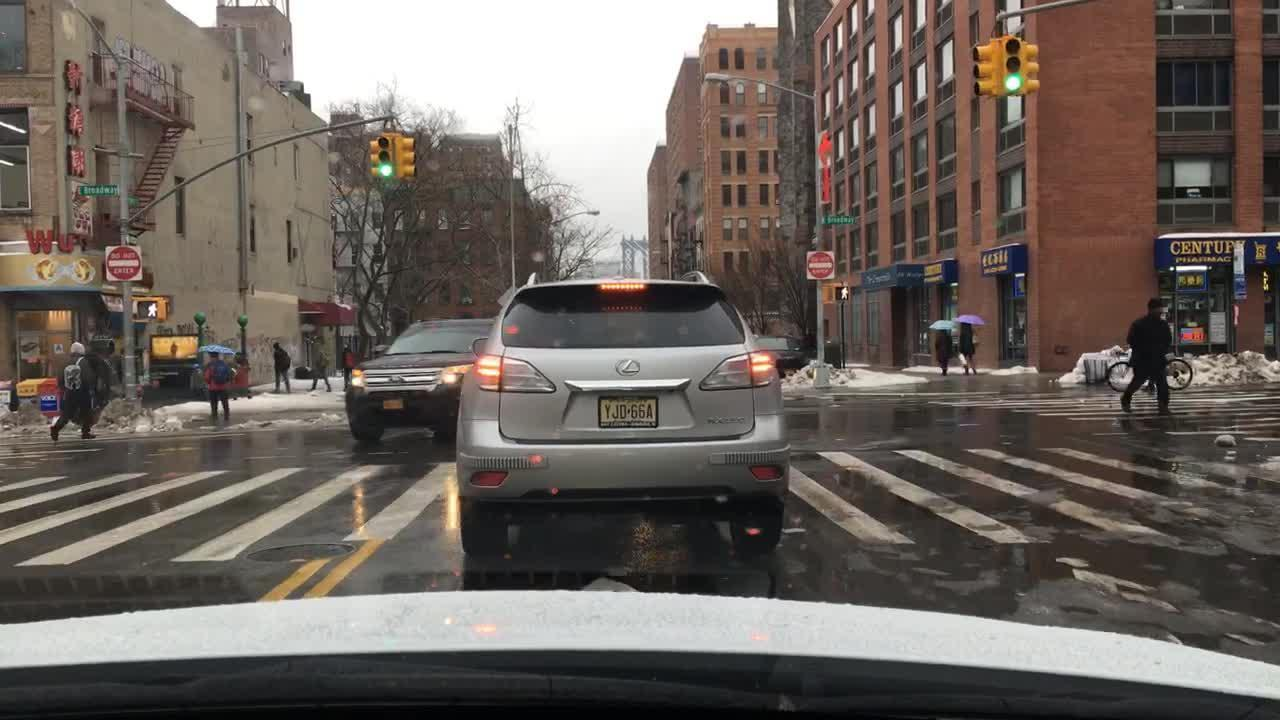lexus: (611, 355, 644, 380)
